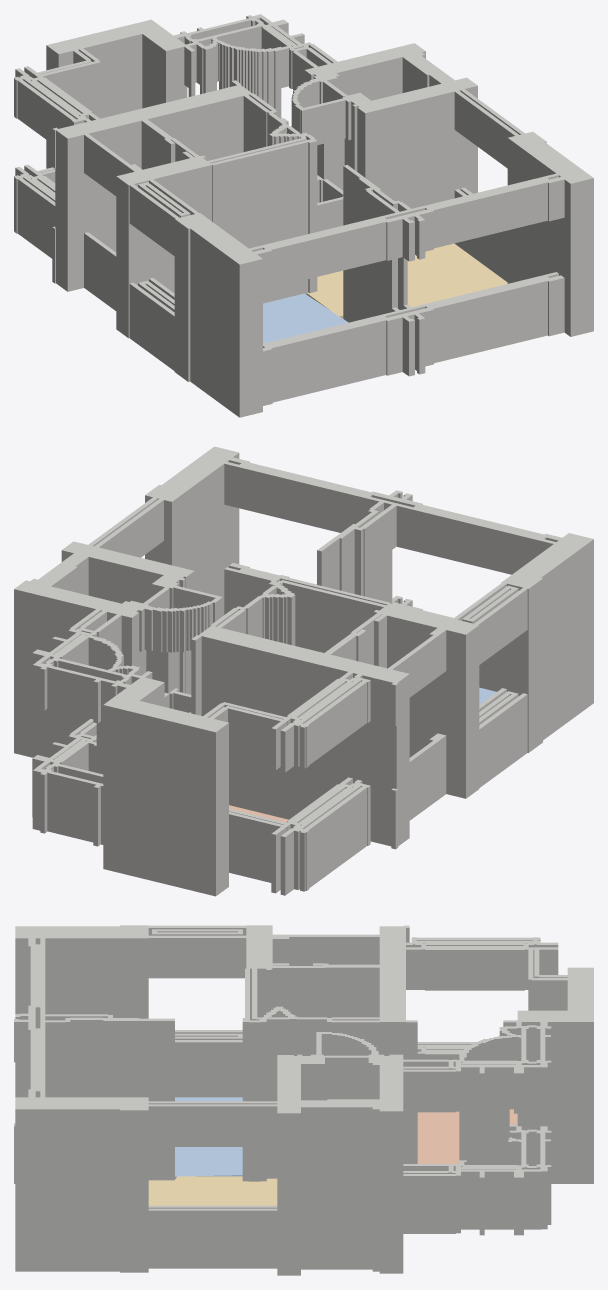
3 renders of one model, top to bottom at view 1: azimuth 30°, elevation 25°; view 2: azimuth 150°, elevation 25°; view 3: azimuth 270°, elevation 25°, orthographic. The views are drawn at different scales.
Visible parts, largest first — view 1: walls, room:living:5, room:bedroom:4; view 2: walls; view 3: walls, room:living:5, room:bedroom:4, room:kitchen:0.
Boxes of the visible parts, box(x1,y1,x2,y2) form: walls: box(14, 14, 593, 417); room:living:5: box(306, 243, 507, 318); room:bedroom:4: box(263, 293, 348, 343); walls: box(14, 446, 593, 896); walls: box(14, 925, 593, 1275); room:living:5: box(148, 1176, 277, 1205); room:bedroom:4: box(175, 1097, 242, 1179); room:kitchen:0: box(417, 1109, 517, 1164).
Size of the model in its own units: 6.96 by 2.8 by 9.07.
